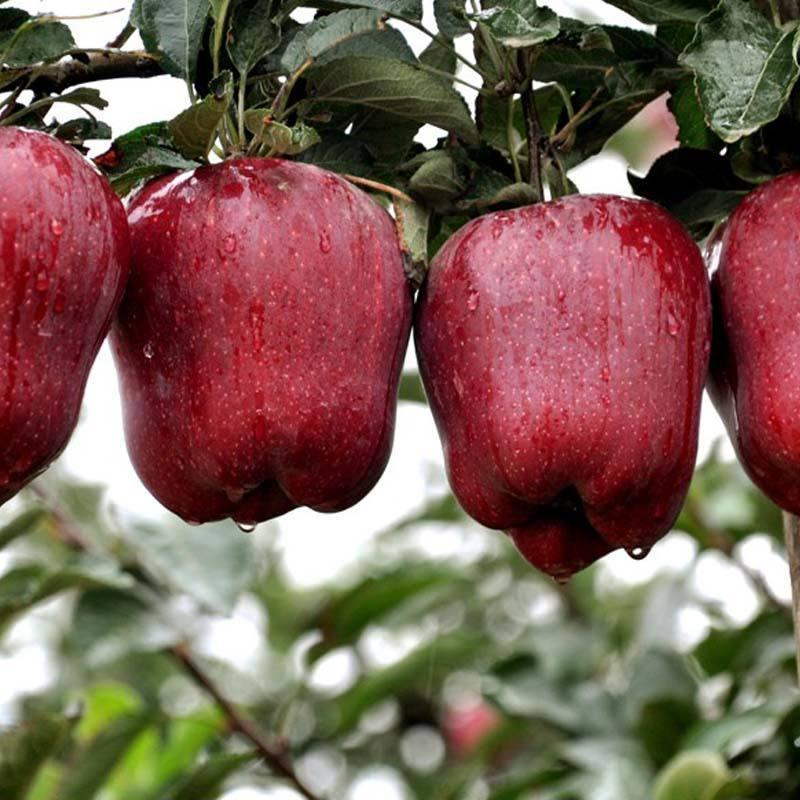apple: (424, 200, 713, 600), (103, 168, 418, 532)
